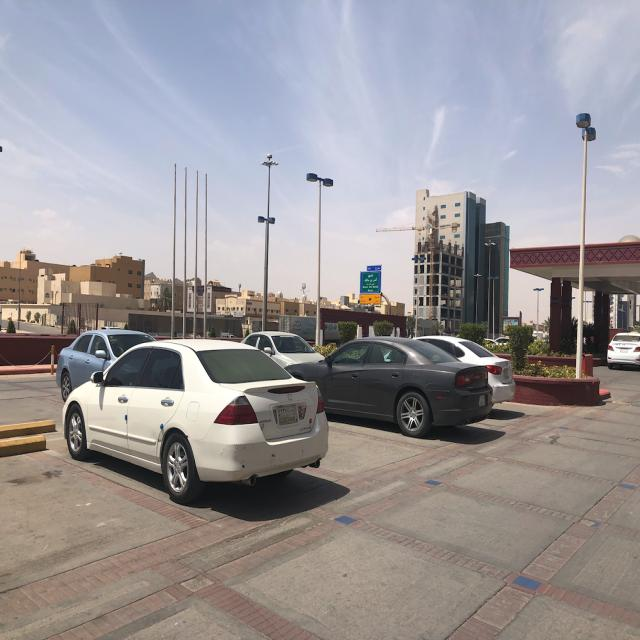license_plate: (278, 406, 296, 424)
